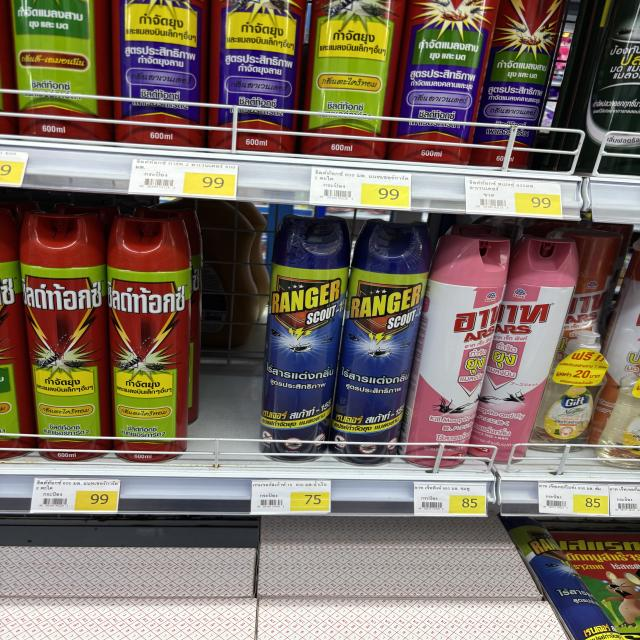empty_shelf: (184, 210, 287, 462)
